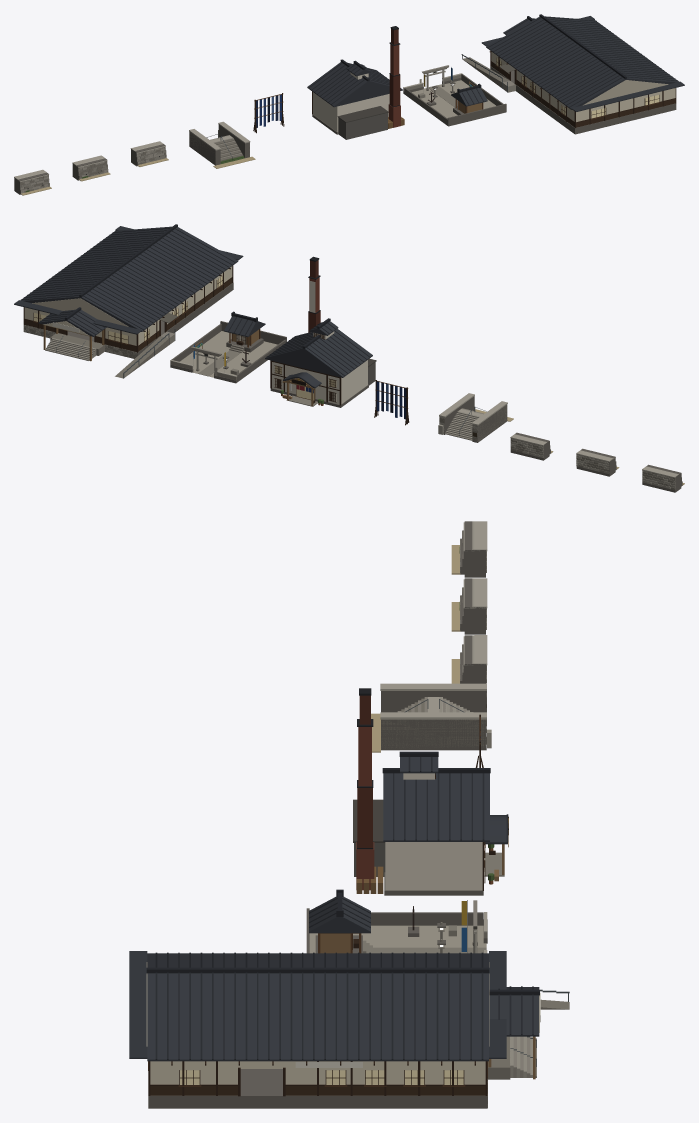
The model's file is konya.glb.
3 renders of one model, top to bottom at view 1: azimuth 30°, elevation 25°; view 2: azimuth 150°, elevation 25°; view 3: azimuth 270°, elevation 25°, orthographic. The views are drawn at different scales.
Parts seen in each view (by area): view 1: konya_ekisha_body, konya_sento_body, konya_ebisu_body, konya_seasteps_body, konya_seawall_b_body, konya_seawall_c_body, konya_seawall_a_body, konya_dryframe_body; view 2: konya_ekisha_body, konya_sento_body, konya_ebisu_body, konya_seasteps_body, konya_dryframe_body, konya_seawall_c_body, konya_seawall_b_body, konya_seawall_a_body; view 3: konya_ekisha_body, konya_sento_body, konya_ebisu_body, konya_seasteps_body, konya_seawall_a_body, konya_seawall_b_body, konya_seawall_c_body.
Boxes of the visible parts, x1,y1,x2,y2 form: konya_ekisha_body: (461, 14, 684, 134); konya_sento_body: (307, 26, 404, 139); konya_ebisu_body: (403, 65, 506, 126); konya_seasteps_body: (189, 121, 255, 168); konya_seawall_b_body: (72, 155, 110, 181); konya_seawall_c_body: (130, 141, 168, 166); konya_seawall_a_body: (14, 169, 51, 195); konya_dryframe_body: (253, 93, 284, 133); konya_ekisha_body: (14, 224, 243, 378); konya_sento_body: (265, 256, 376, 407); konya_ebisu_body: (170, 311, 286, 383); konya_seasteps_body: (438, 393, 513, 442); konya_dryframe_body: (374, 380, 409, 425); konya_seawall_c_body: (510, 432, 553, 460); konya_seawall_b_body: (576, 448, 619, 476); konya_seawall_a_body: (642, 464, 684, 492); konya_ekisha_body: (129, 951, 569, 1108); konya_sento_body: (353, 688, 508, 895); konya_ebisu_body: (306, 889, 487, 953); konya_seasteps_body: (371, 683, 491, 752); konya_seawall_a_body: (451, 521, 487, 577); konya_seawall_b_body: (451, 578, 487, 634); konya_seawall_c_body: (451, 635, 487, 683).
Bounding box in the file's own units: 120 × 19.65 × 39.2.
